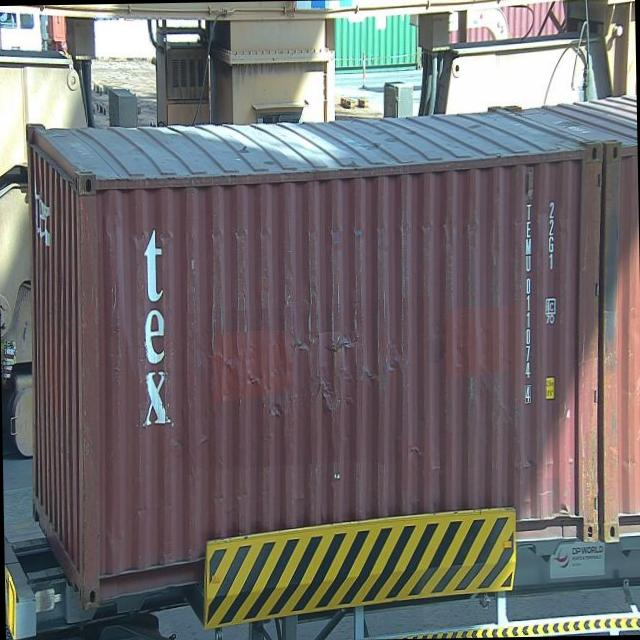Deframe_or_Dent: (292, 316, 358, 412), (242, 360, 282, 430)
Rust: (574, 383, 622, 554)
